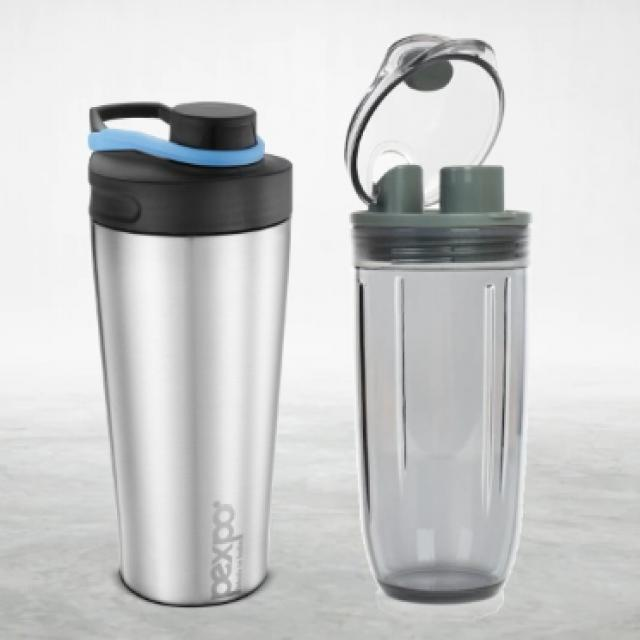dry: (359, 44, 531, 597), (107, 316, 282, 604), (86, 110, 290, 225)
